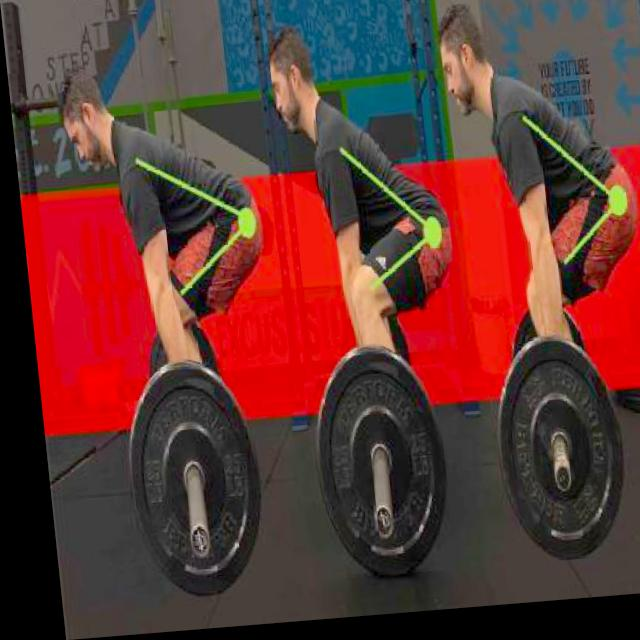barbell: (97, 360, 265, 609), (291, 343, 448, 591), (473, 336, 625, 580)
